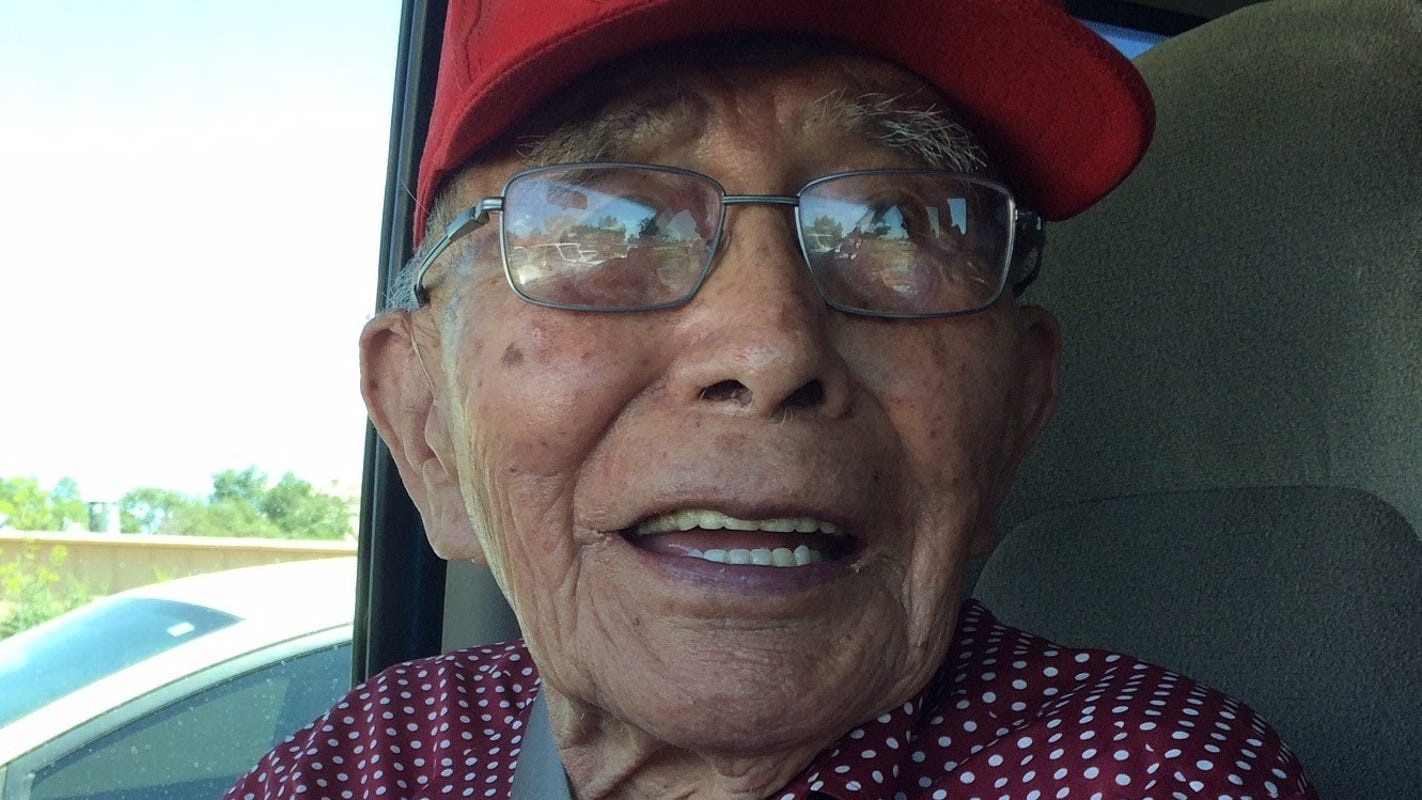face_no_mask: (401, 19, 1070, 774)
